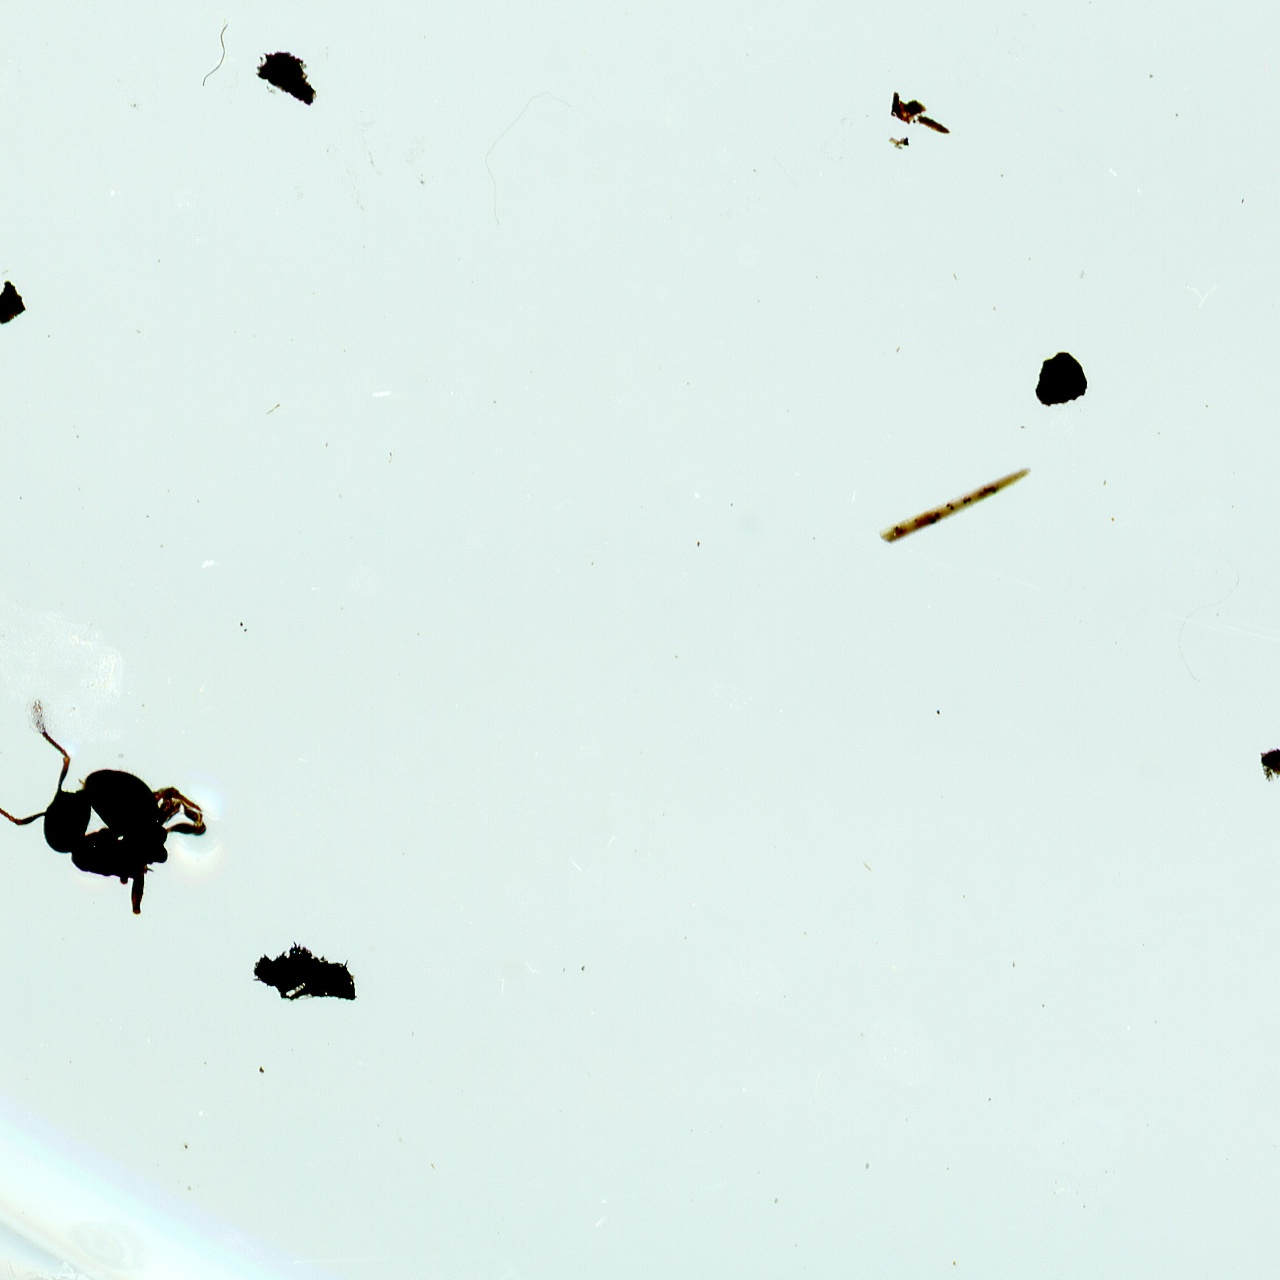arthropod: (0, 647, 249, 971)
